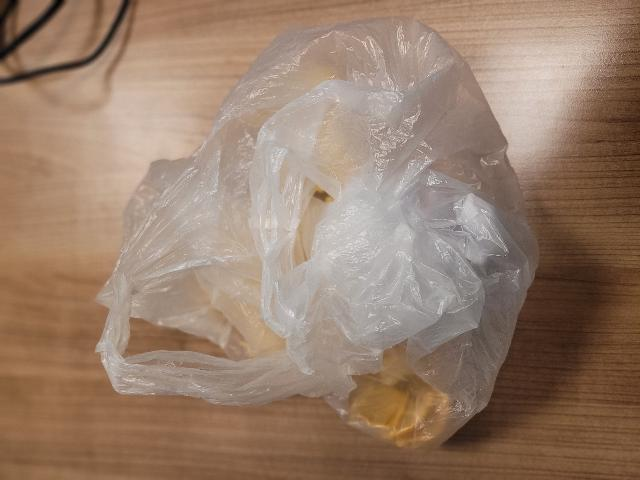Plastik: (90, 5, 552, 470)
